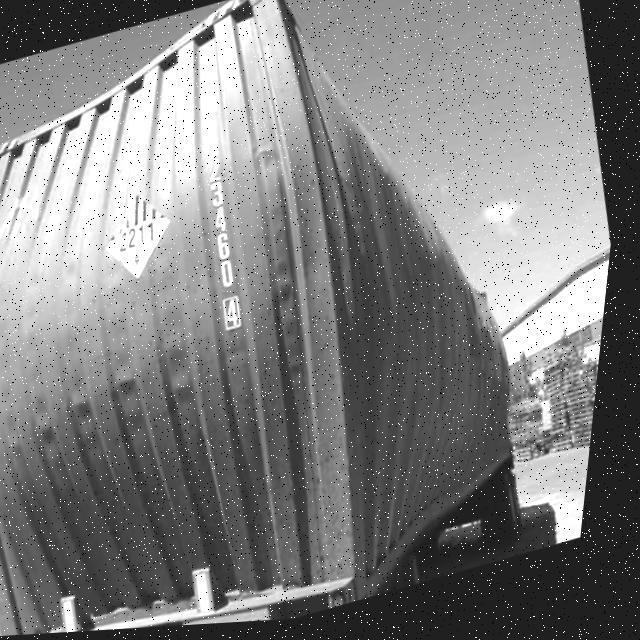dent: (1, 173, 319, 515)
